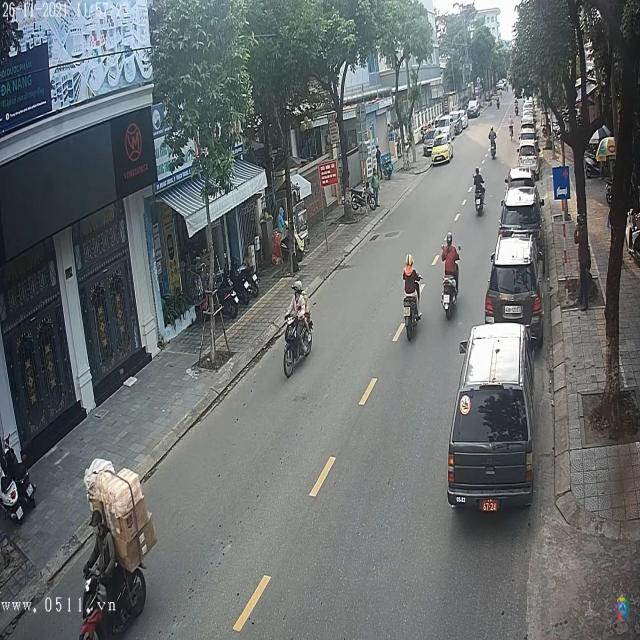car: (448, 315, 535, 510), (485, 236, 543, 332), (499, 188, 543, 238), (516, 145, 537, 167), (518, 130, 537, 146), (468, 99, 482, 117)
motorcycle: (282, 304, 315, 381), (403, 286, 424, 340), (442, 273, 459, 318), (474, 181, 486, 215)
